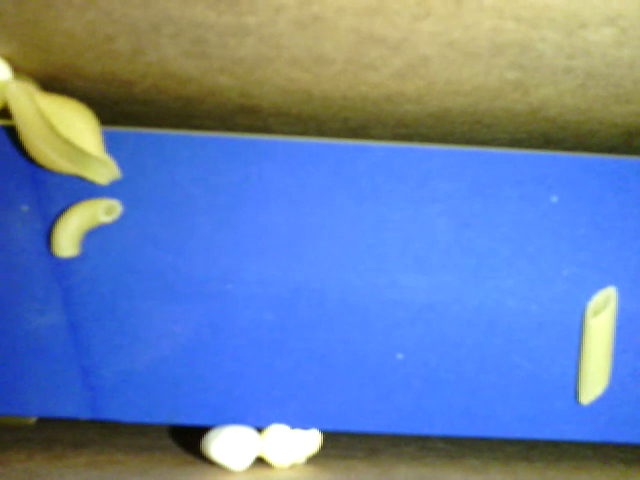elbow: (49, 194, 127, 256)
penne: (577, 284, 620, 407)
shell: (3, 75, 122, 190)
